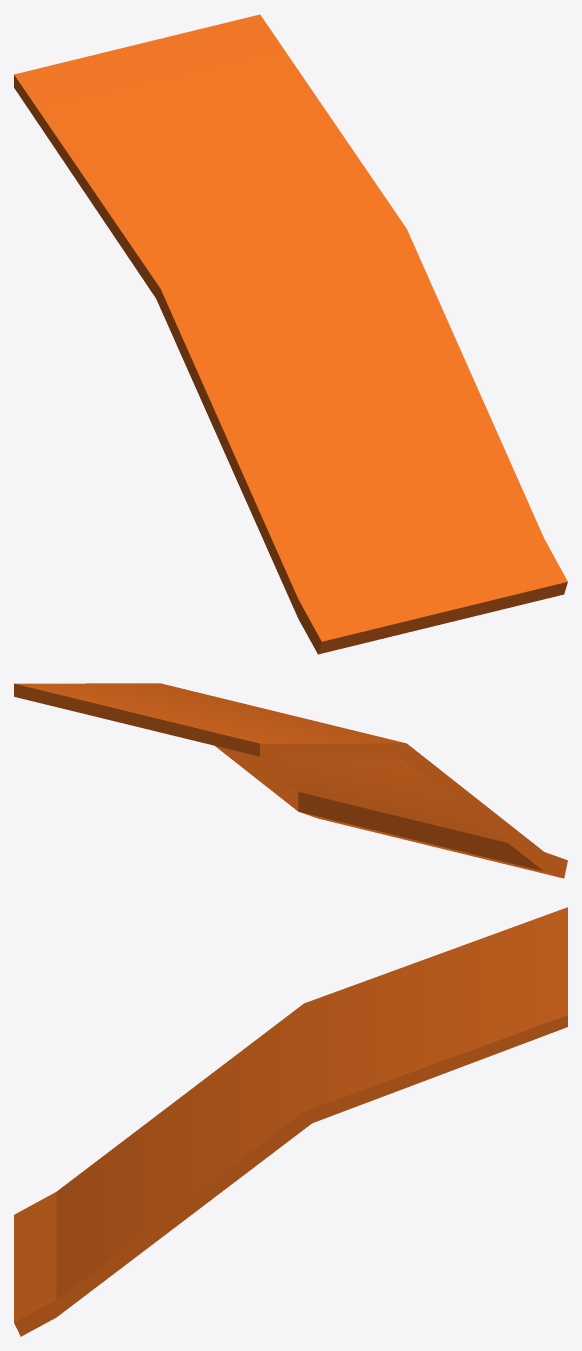
The model's file is ToitFerme.fbx.
3 views of the same model, one above another, from view 1: azimuth 30°, elevation 25°; view 2: azimuth 150°, elevation 25°; view 3: azimuth 270°, elevation 25° (orthographic). The views are drawn at different scales.
Visible parts, largest first — view 1: ToitFerme; view 2: ToitFerme; view 3: ToitFerme.
Part boxes in pixels (<box>): ToitFerme: <box>14,14,567,654</box>; ToitFerme: <box>14,683,567,878</box>; ToitFerme: <box>14,907,567,1336</box>.
Size of the model in its own units: 600 by 833 by 1300.
